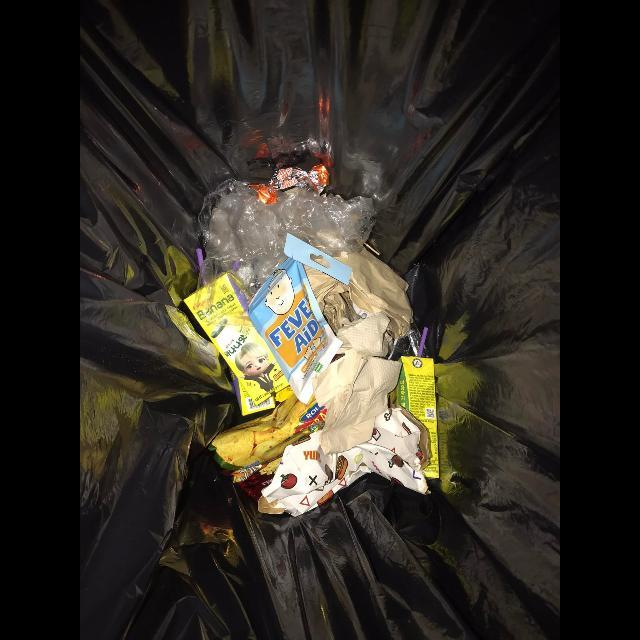paper: (257, 408, 431, 517), (184, 273, 290, 406), (303, 254, 413, 339), (314, 353, 403, 456), (390, 356, 439, 479), (336, 312, 394, 359), (231, 370, 275, 416)
plastic: (198, 179, 375, 299)
wrapper: (248, 233, 352, 405), (212, 394, 327, 502), (249, 164, 330, 205)
